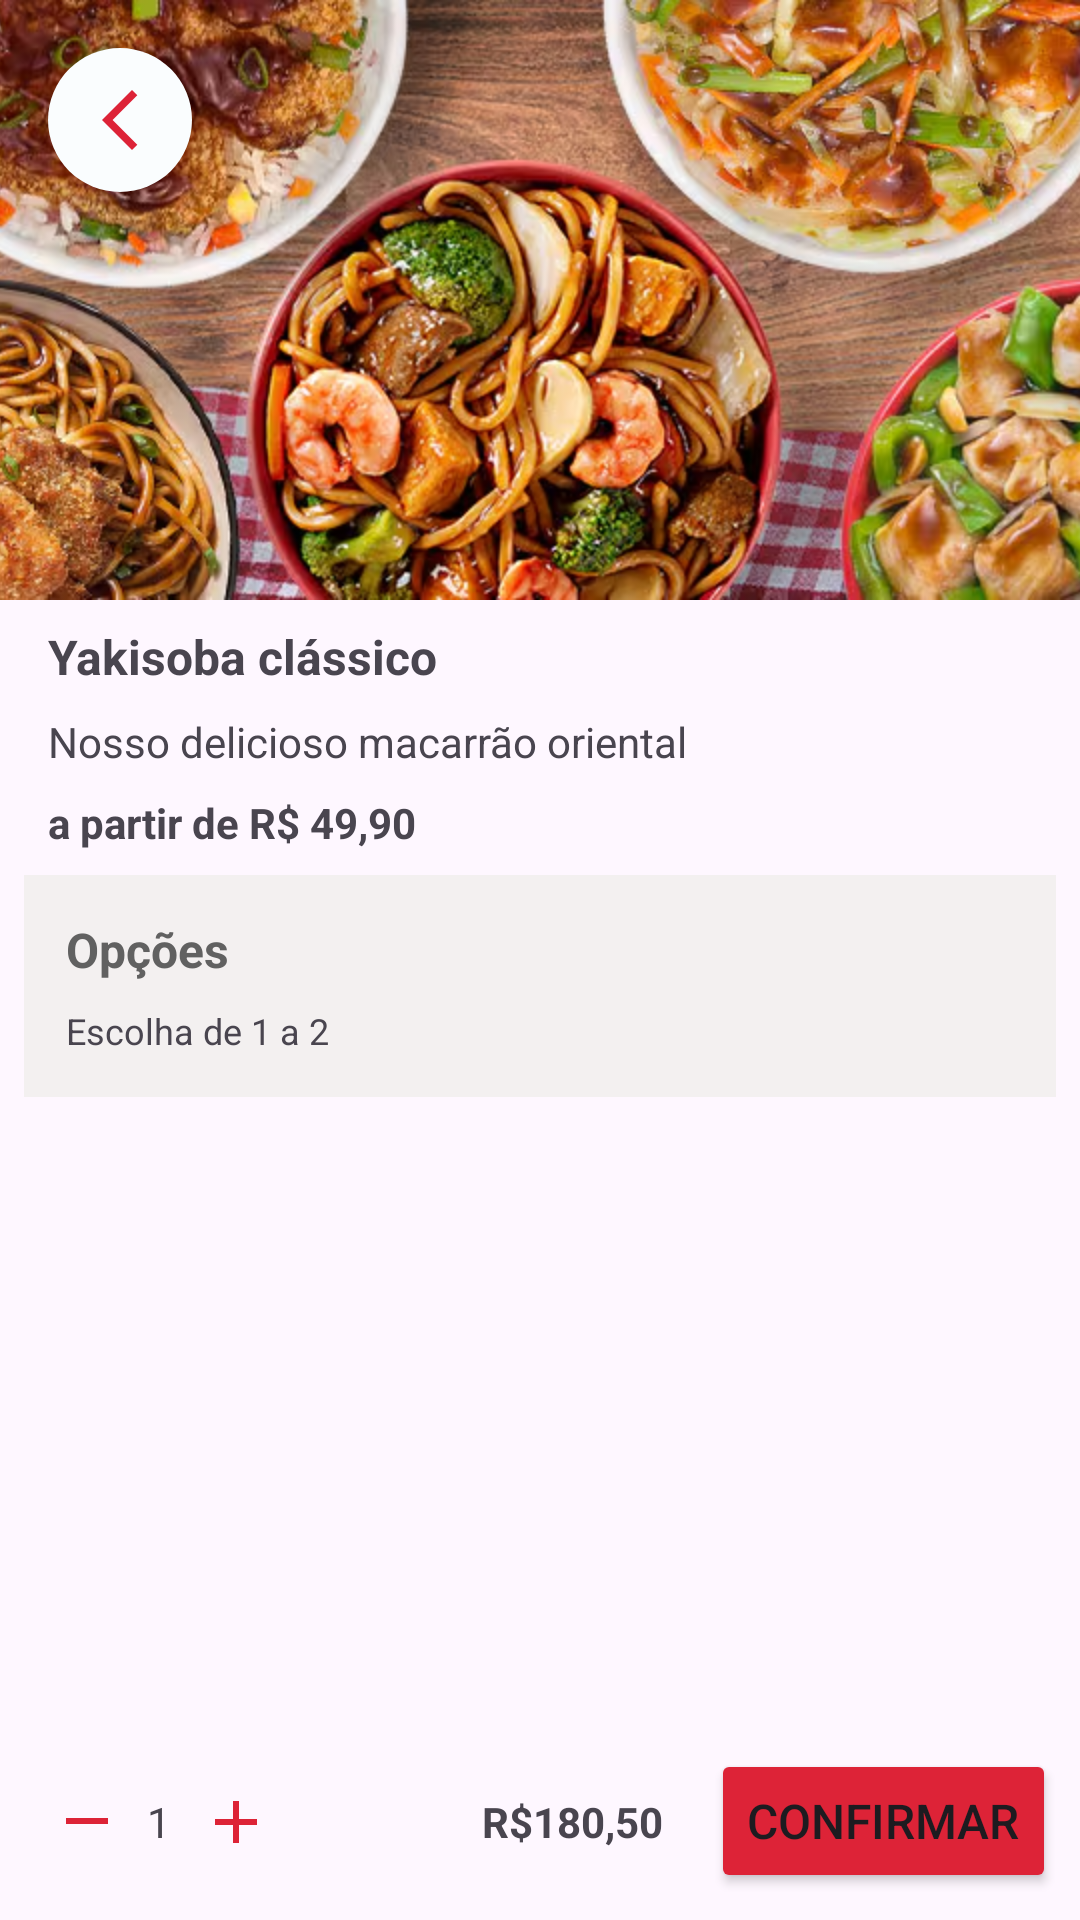

Where to tap for icons on this 1080×1920 app screen, as point (x, y):
botão de mais: point (236, 1822)
Botão para voltar à tela inicial com os restaurantes: point (120, 120)
